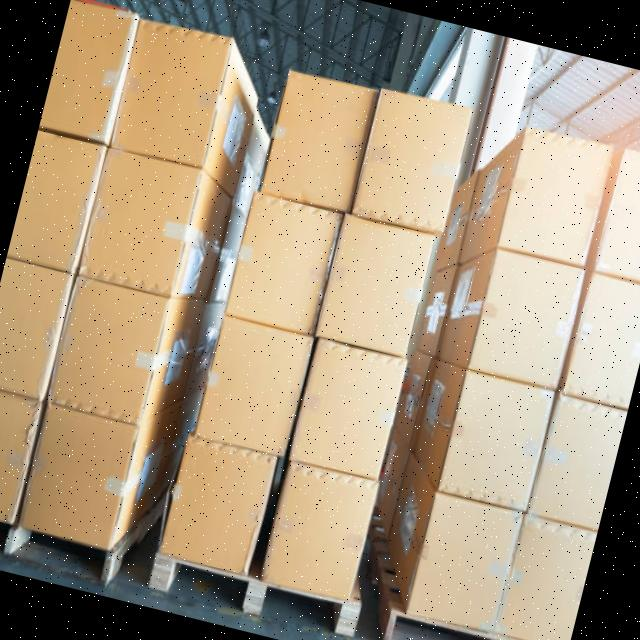Wooden-Pallets: (141, 548, 365, 640), (381, 605, 567, 640)
